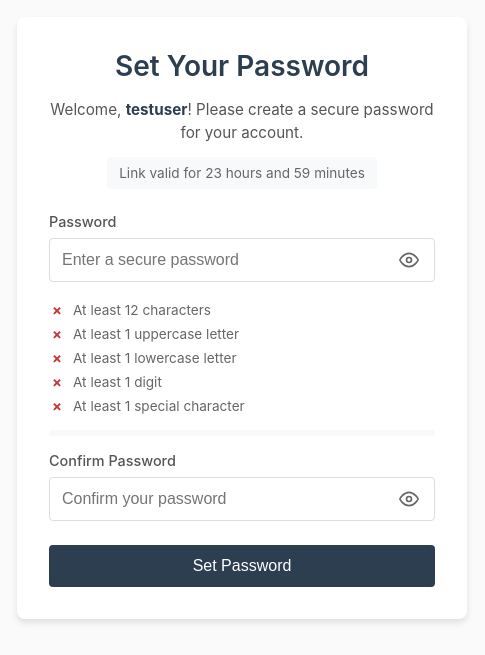
Test: SetPasswordPage › Form validation › shows error when password does not meet complexity requirements
Type "weak" into the password field labelled "Password". click: (242, 260)
box: top-left (49, 238), bottom-right (435, 282)
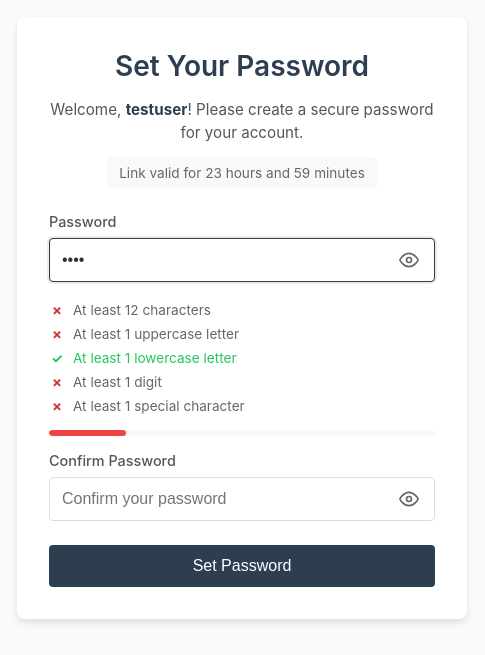
Type "weak" into the password field labelled "Confirm Password". click: (242, 499)
box: top-left (49, 477), bottom-right (435, 521)
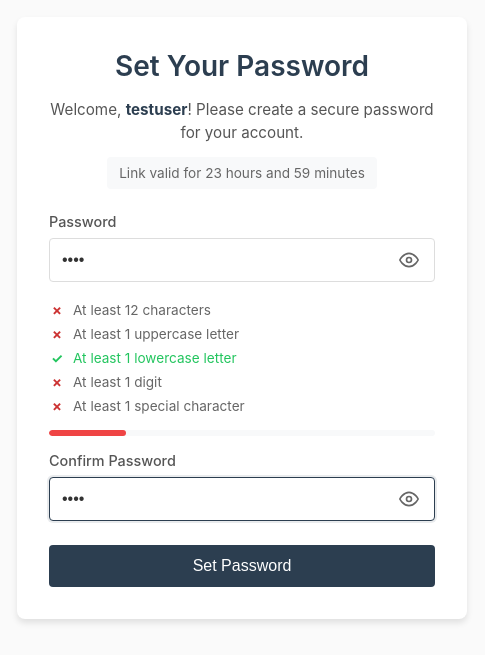
Click the button "Set Password". click: (242, 566)
box: top-left (49, 545), bottom-right (435, 587)
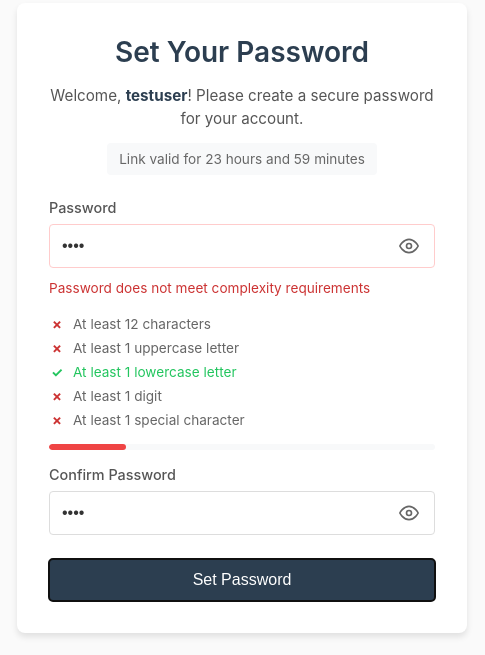
Check: the message "Password does not meet complexity requirements" is shown, box top-left (49, 280), bottom-right (370, 296)
